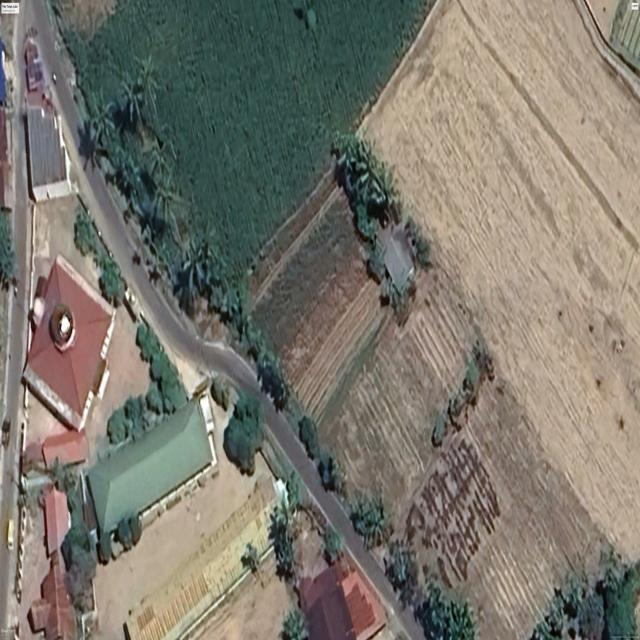Home: (300, 562, 386, 640), (24, 91, 72, 202), (29, 553, 76, 640), (45, 487, 71, 557)
mosque: (23, 255, 115, 431)
